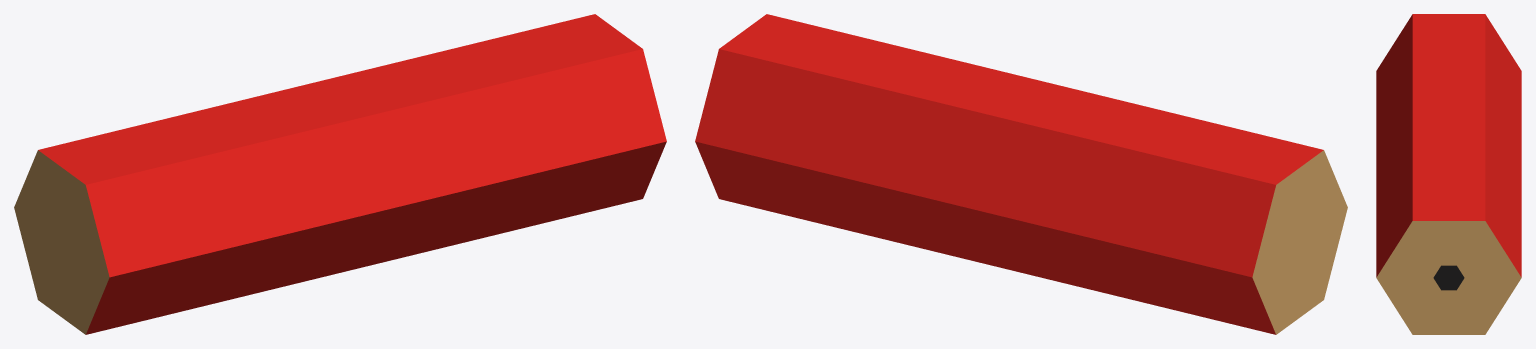
The model's file is pencil2.fbx.
3 views of the same model, side by side, from view 1: azimuth 30°, elevation 25°; view 2: azimuth 150°, elevation 25°; view 3: azimuth 270°, elevation 25° (orthographic). The views are drawn at different scales.
Parts seen in each view (by area): view 1: Cylinder.001; view 2: Cylinder.001; view 3: Cylinder.001.
Part boxes in pixels (x1,y1,x2,y2): Cylinder.001: [14, 14, 666, 334]; Cylinder.001: [695, 14, 1347, 334]; Cylinder.001: [1376, 14, 1521, 334].
Bounding box in the file's own units: 673 × 173 × 200.
